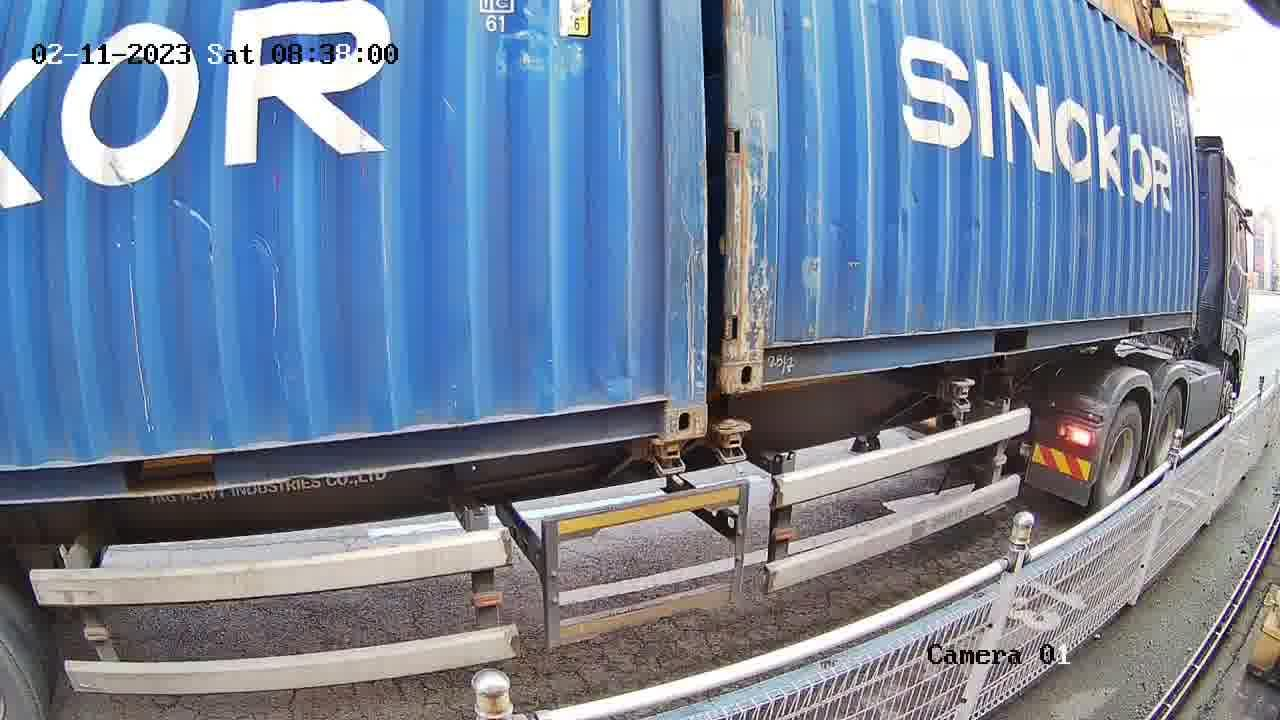Cone: (714, 419, 752, 466), (652, 441, 688, 485)
Hole_L: (722, 327, 798, 392)
Hole_R: (634, 375, 706, 437)
Tire: (1098, 406, 1142, 506), (1149, 388, 1183, 480)
